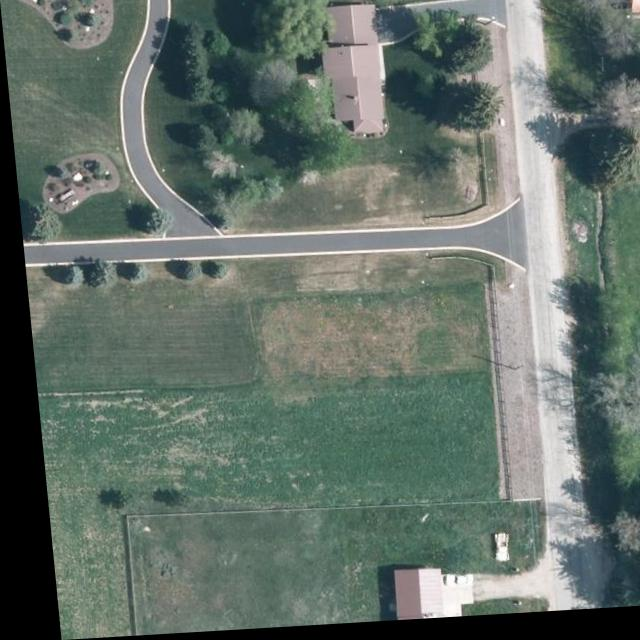vehicle: (481, 538, 500, 568), (433, 579, 463, 593)
